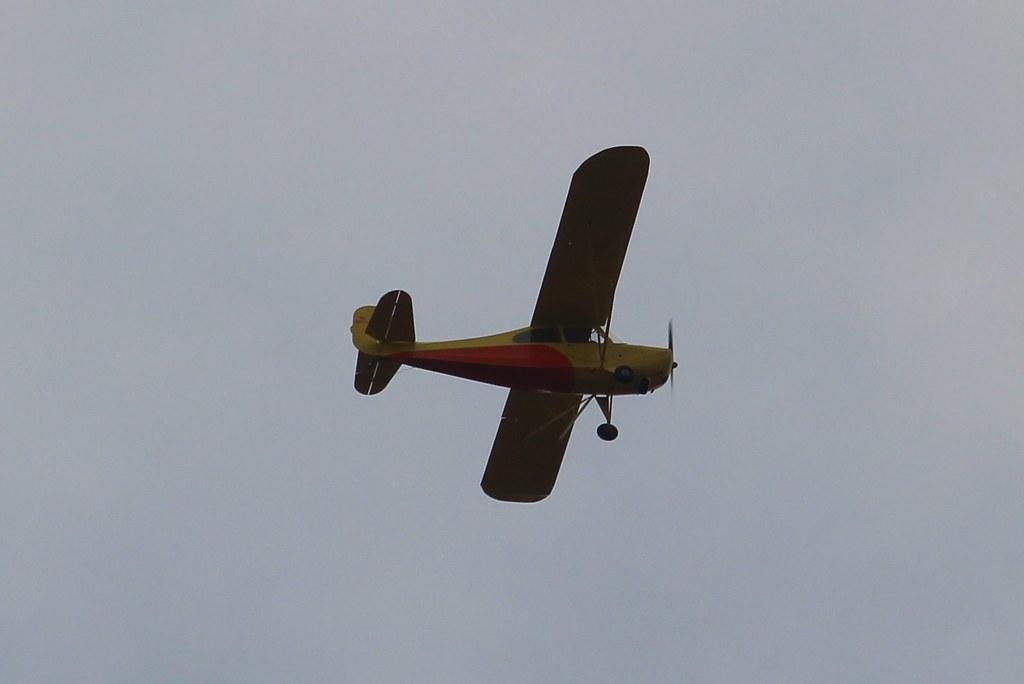plane: (350, 144, 680, 504)
